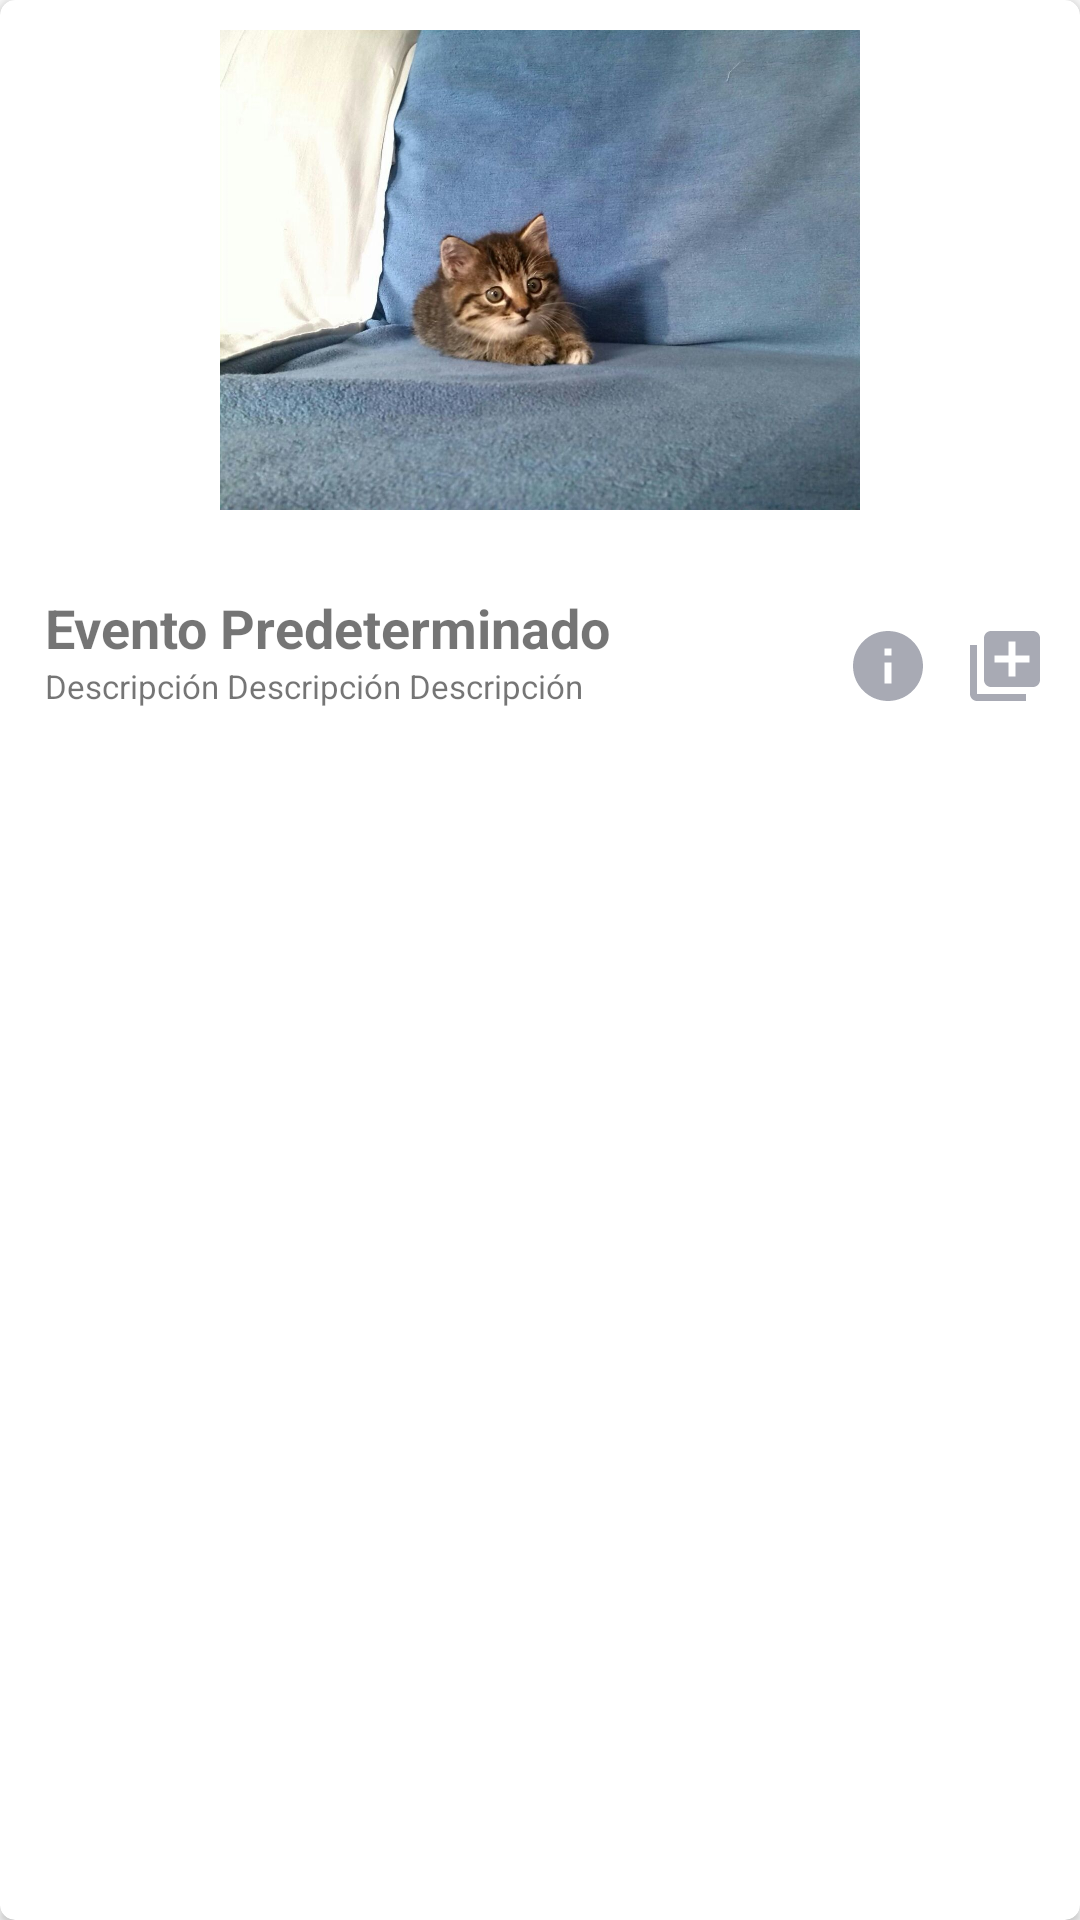

Where to tap for icons on this 1080x1920 app screen, as [x,y]:
add: [1005,666]
info: [888,666]
